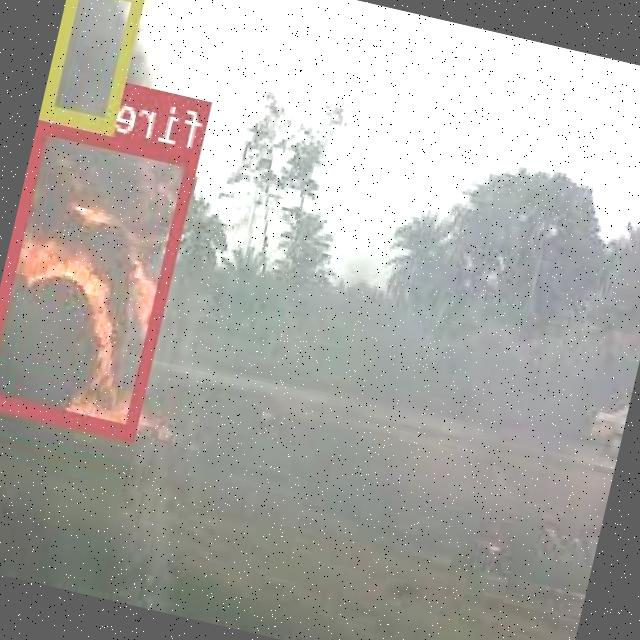fire: (0, 114, 202, 437)
smoke: (44, 0, 157, 130)
